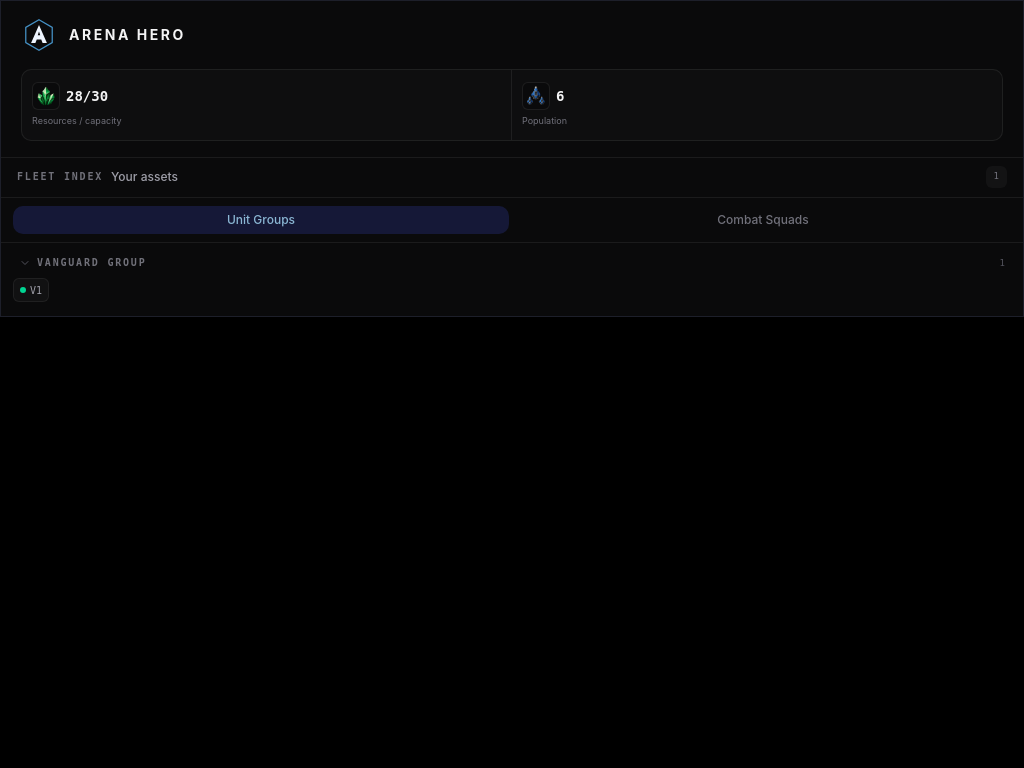
AssetList › squad settings › hides mode-gated parameters exactly like the dashboard form
The width and height of the screenshot is (1024, 768).
Step 1. Click the tab "Combat Squads" → x=763, y=220, box [515,206,1011,234]
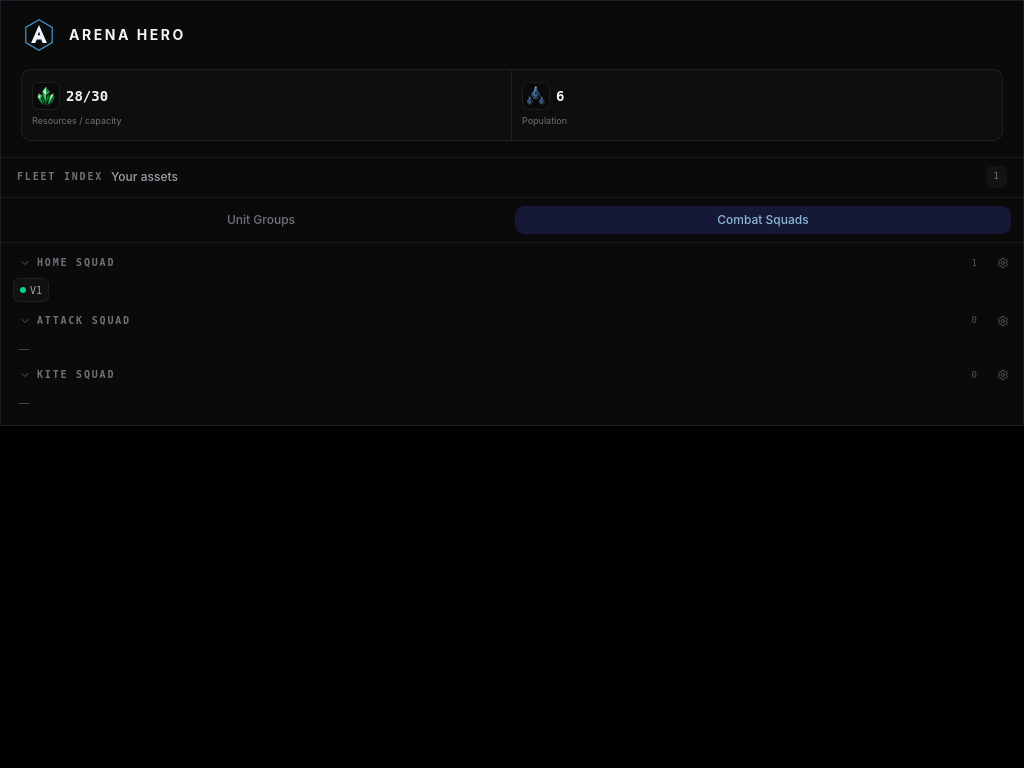
Step 2. Click the button named "Settings · Attack Squad" → x=1003, y=321, box [991,309,1015,333]
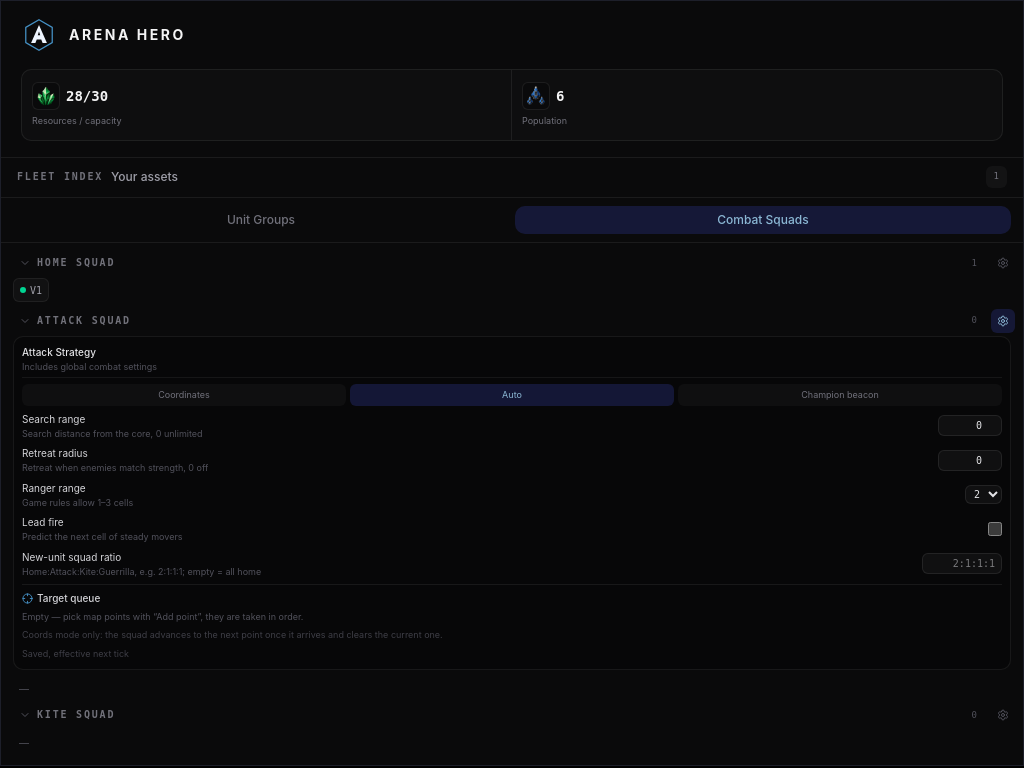
Result: the text "Search range" is shown at [22,412,85,424]
